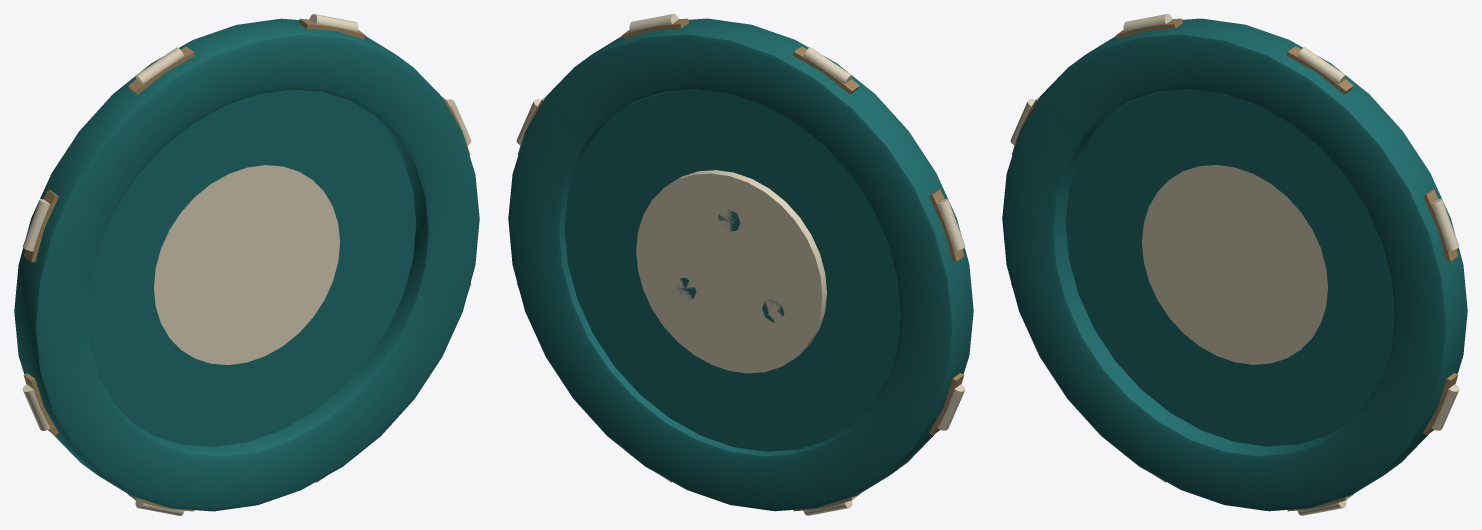
File: k5_lashing_ring.obj
3 views of the same model, side by side, from view 1: azimuth 30°, elevation 25°; view 2: azimuth 150°, elevation 25°; view 3: azimuth 330°, elevation 25° (orthographic).
Visible parts, largest first — view 1: k5_lashing_ring; view 2: k5_lashing_ring; view 3: k5_lashing_ring.
Part boxes in pixels (box(x1,y1,x2,y2)): k5_lashing_ring: box(14, 14, 479, 515); k5_lashing_ring: box(508, 14, 973, 515); k5_lashing_ring: box(1002, 14, 1467, 515).
Bounding box in the file's own units: 1.66 × 1.66 × 0.1512.
